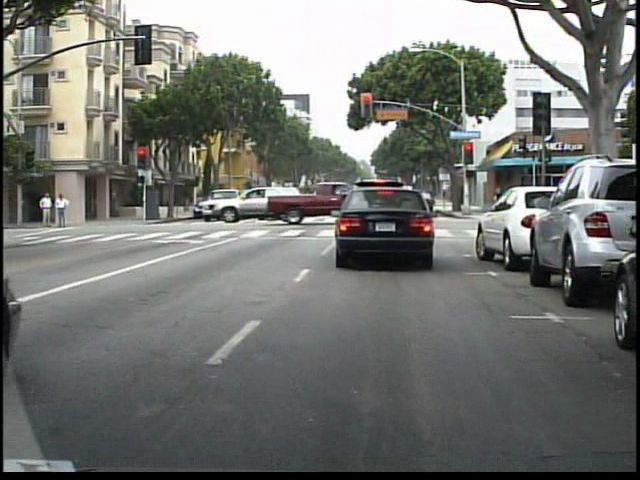person: (36, 189, 53, 231), (53, 191, 70, 231)
